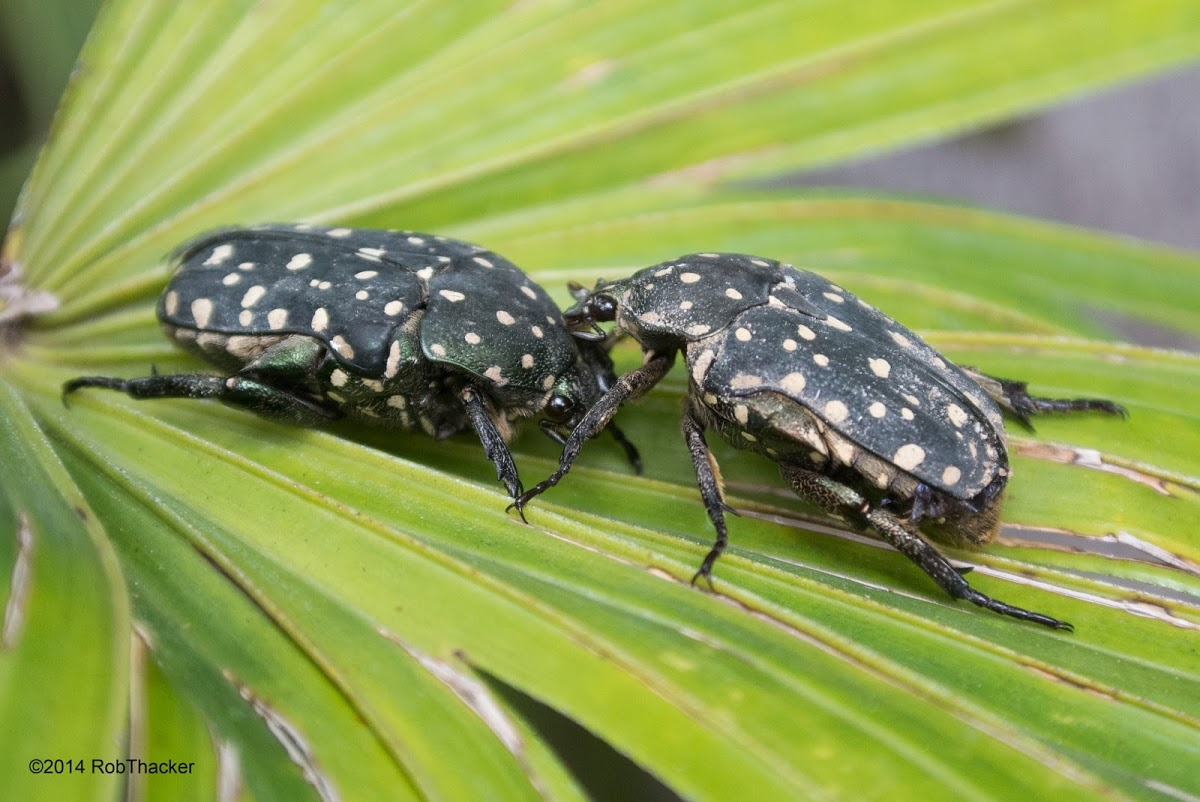Protaetia_niveoguttata: (562, 245, 1137, 641), (52, 198, 656, 527)
